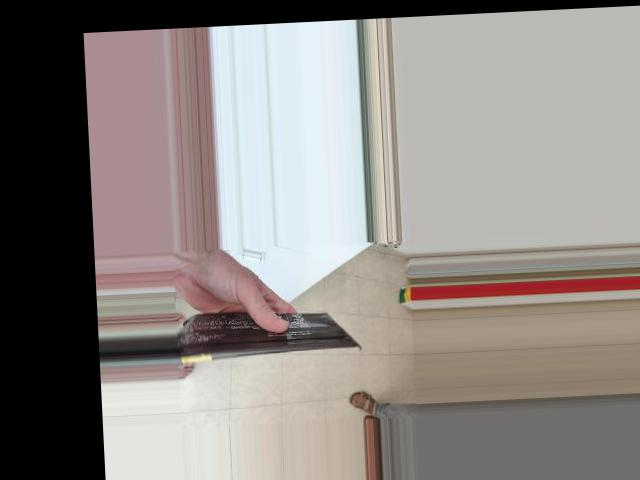chocolate: (173, 301, 345, 370)
